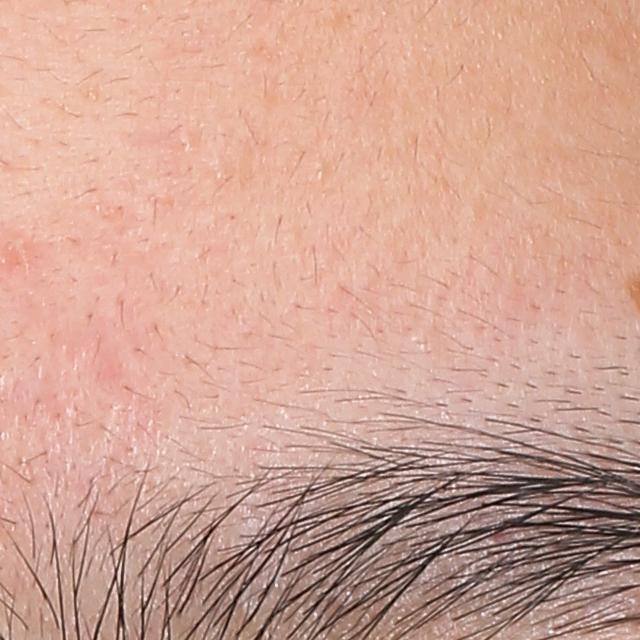comedo: (177, 126, 200, 159)
